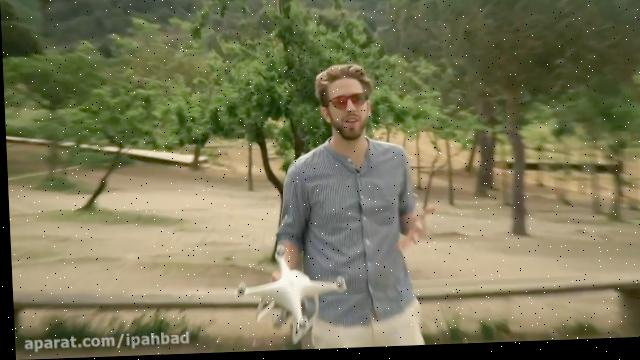drone: (228, 243, 347, 347)
